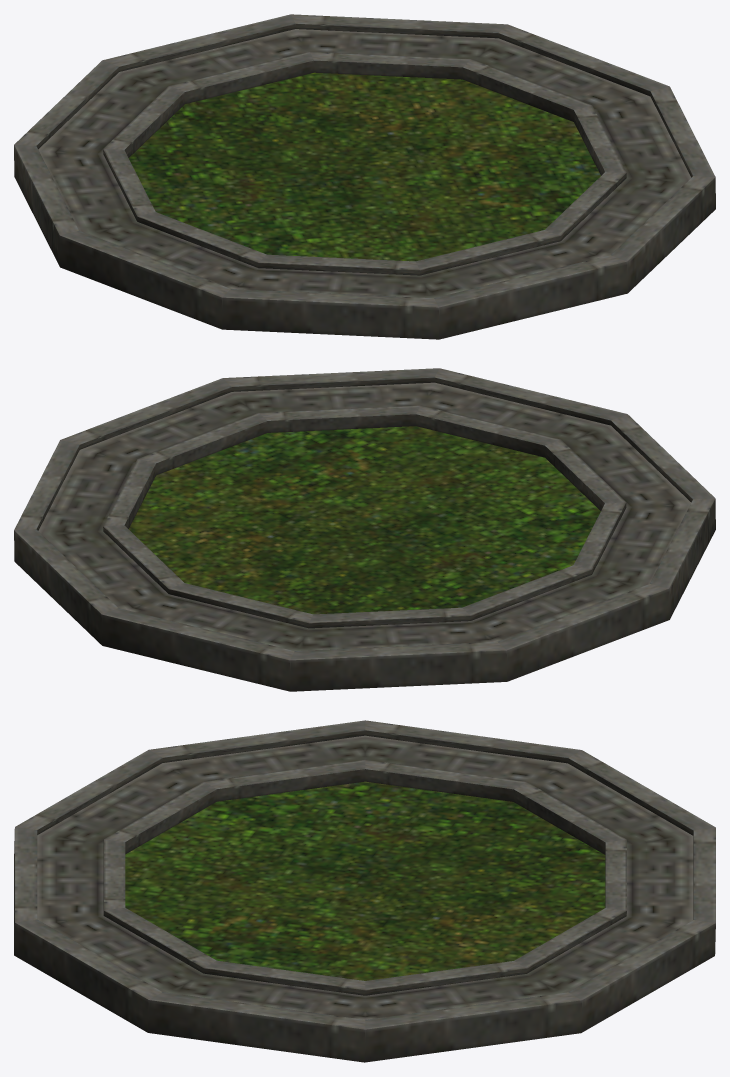
The model's file is lianqizong_huatan01b_jz.FBX.
3 renders of one model, top to bottom at view 1: azimuth 30°, elevation 25°; view 2: azimuth 150°, elevation 25°; view 3: azimuth 270°, elevation 25°, orthographic. The views are drawn at different scales.
Parts seen in each view (by area): view 1: DrawCall_27; view 2: DrawCall_27; view 3: DrawCall_27.
Part boxes in pixels (box(x1,y1,x2,y2)): DrawCall_27: box(14, 14, 715, 339); DrawCall_27: box(14, 368, 715, 691); DrawCall_27: box(14, 720, 715, 1062).
Size of the model in its own units: 212 by 10.53 by 204.
Materials: 1 (1 with a texture image).
